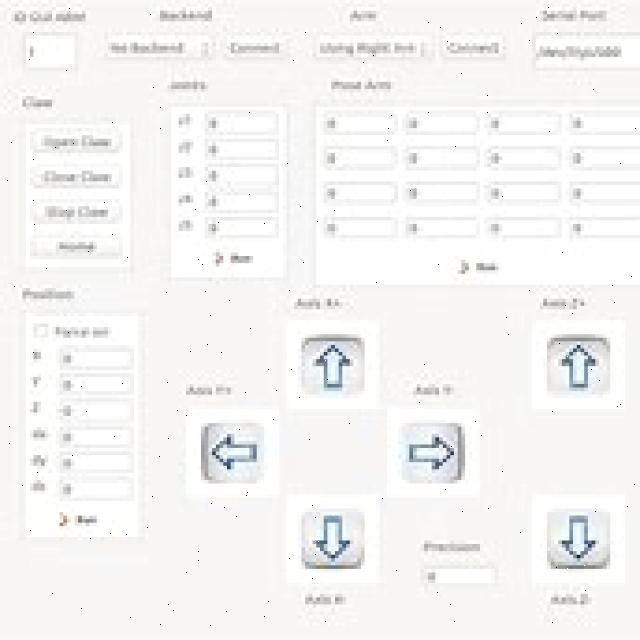button: (297, 329, 370, 401), (394, 416, 466, 486), (541, 505, 615, 573), (196, 416, 264, 487), (543, 332, 612, 397), (297, 506, 368, 568), (301, 33, 438, 57), (28, 194, 124, 225), (30, 161, 124, 188), (30, 232, 124, 258), (29, 125, 124, 148), (221, 30, 287, 63), (440, 31, 506, 61)
checkbox: (30, 318, 47, 337)
icon: (446, 252, 518, 281), (203, 248, 260, 269), (53, 509, 106, 531)
input: (529, 30, 640, 74), (17, 28, 80, 71), (485, 109, 562, 139), (52, 475, 134, 502), (484, 145, 562, 173), (202, 110, 280, 137), (402, 181, 480, 208), (565, 214, 640, 242), (55, 344, 135, 370), (400, 109, 480, 135), (483, 215, 562, 241), (320, 145, 398, 171), (402, 145, 480, 171), (55, 398, 135, 423), (322, 216, 398, 242), (418, 565, 503, 588), (321, 182, 399, 207), (565, 181, 640, 207), (483, 181, 563, 205), (322, 110, 398, 135), (206, 189, 280, 214), (566, 109, 640, 134), (203, 137, 280, 161), (52, 451, 135, 473), (204, 216, 280, 240), (564, 146, 640, 170), (203, 163, 280, 186), (402, 217, 479, 240), (54, 426, 134, 448), (56, 374, 134, 394)
label: (532, 4, 622, 26), (416, 536, 489, 559), (14, 283, 83, 306), (283, 291, 351, 314), (154, 5, 219, 26), (329, 76, 396, 96), (536, 294, 596, 316), (408, 377, 459, 401), (545, 589, 601, 610), (9, 8, 90, 22), (298, 590, 357, 608), (4, 90, 55, 110), (50, 324, 116, 339), (184, 382, 233, 400), (163, 78, 212, 96), (342, 4, 386, 23), (25, 454, 47, 470), (175, 112, 195, 129), (175, 163, 195, 180), (176, 137, 195, 154), (28, 398, 42, 418), (29, 426, 49, 440), (177, 193, 195, 208), (29, 372, 42, 391), (29, 346, 43, 363), (28, 480, 44, 494), (178, 218, 193, 232)
upDown: (98, 32, 219, 64)
